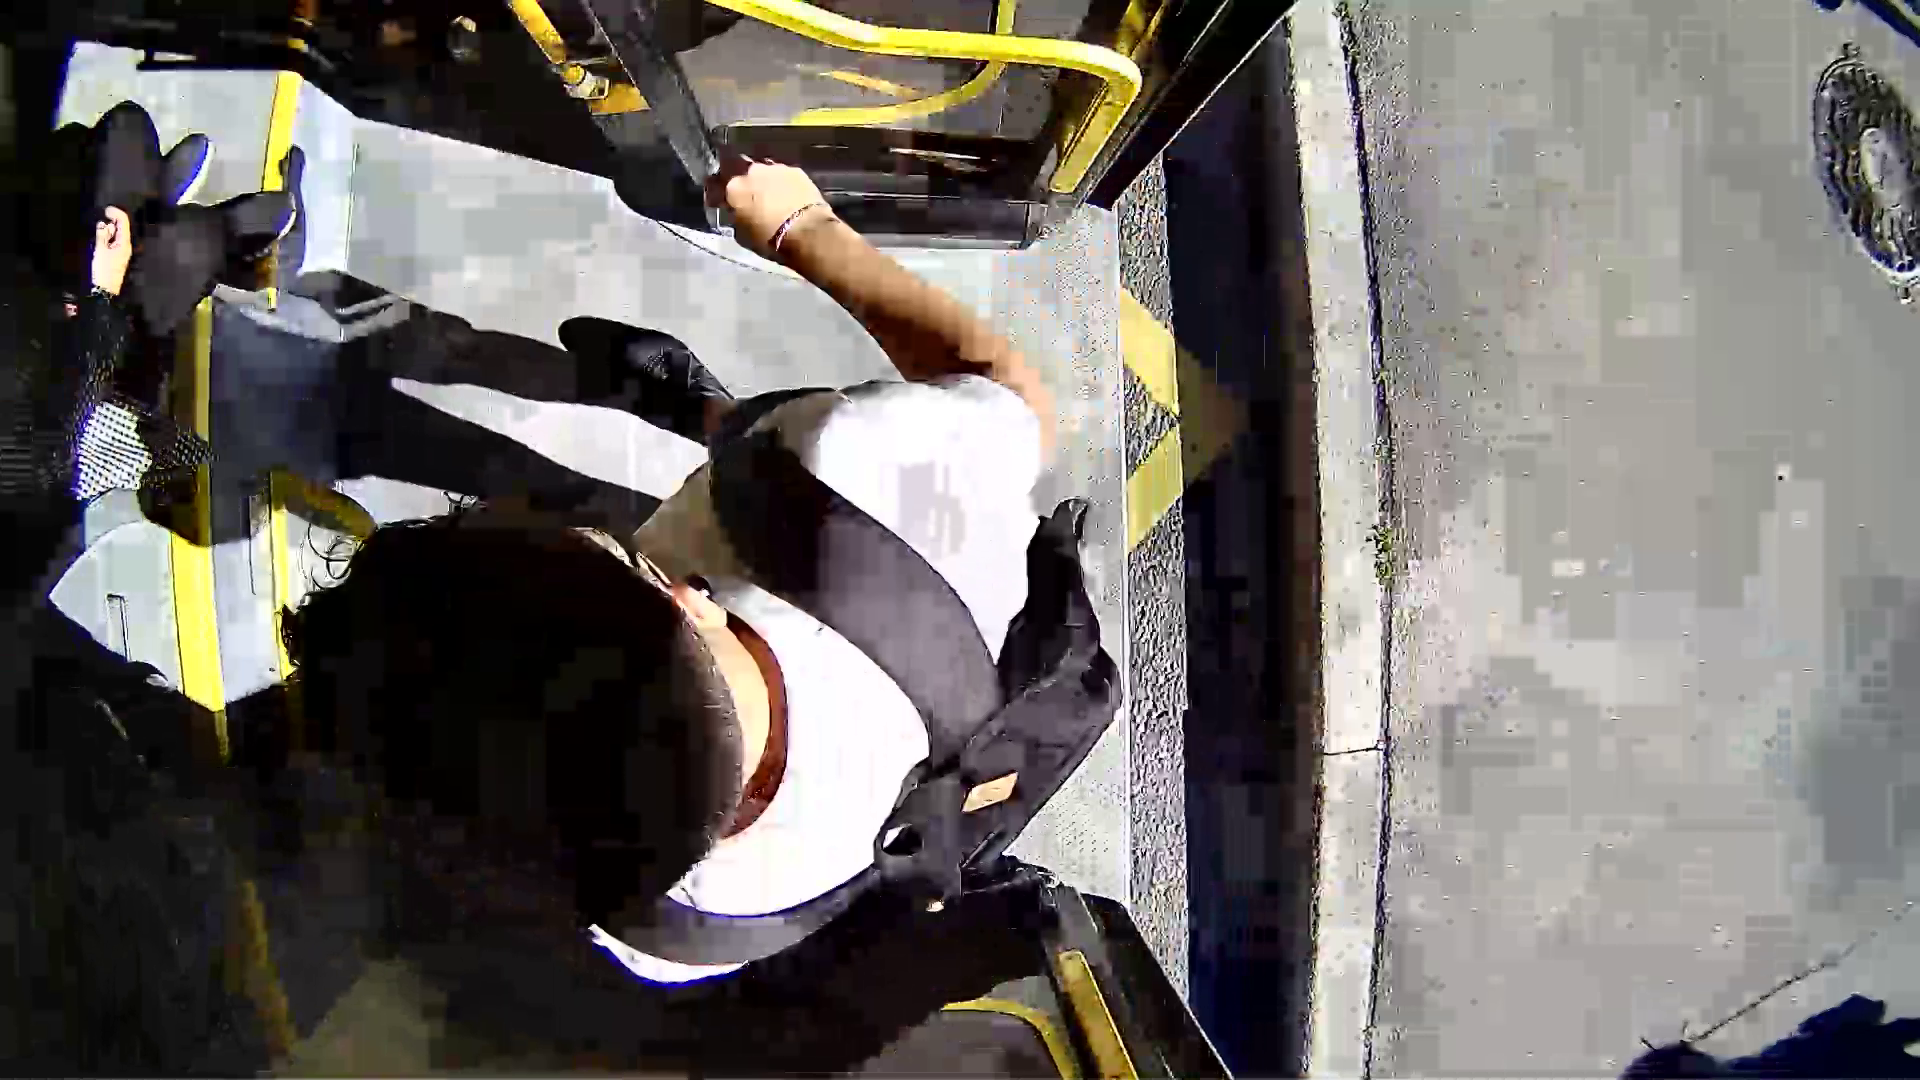person: (314, 181, 1115, 1011)
